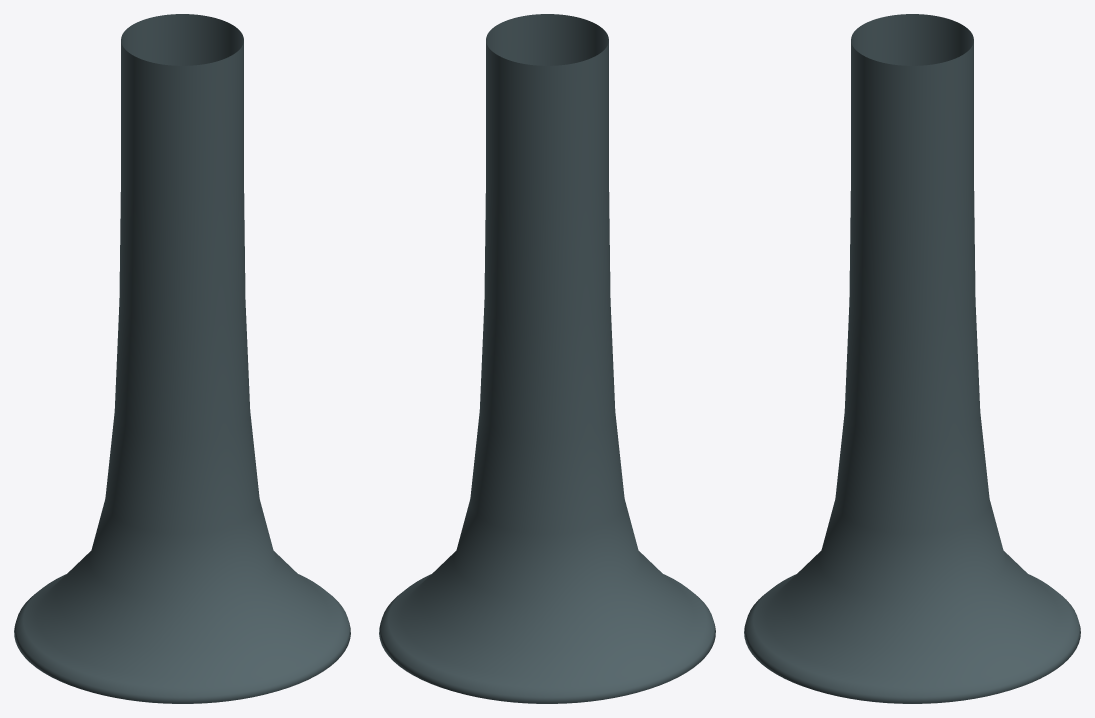
Rendered from Chorrro.fbx.
The picture shows the model from 3 angles, left to right: view 1: azimuth 30°, elevation 25°; view 2: azimuth 150°, elevation 25°; view 3: azimuth 270°, elevation 25°; orthographic projection.
Visible parts, largest first — view 1: pCylinder1; view 2: pCylinder1; view 3: pCylinder1.
Boxes of the visible parts, x1=… form: pCylinder1: x1=14, y1=14, x2=350, y2=703; pCylinder1: x1=379, y1=14, x2=715, y2=703; pCylinder1: x1=744, y1=14, x2=1080, y2=703.
Size of the model in its own units: 3.94 by 7.69 by 3.94.
